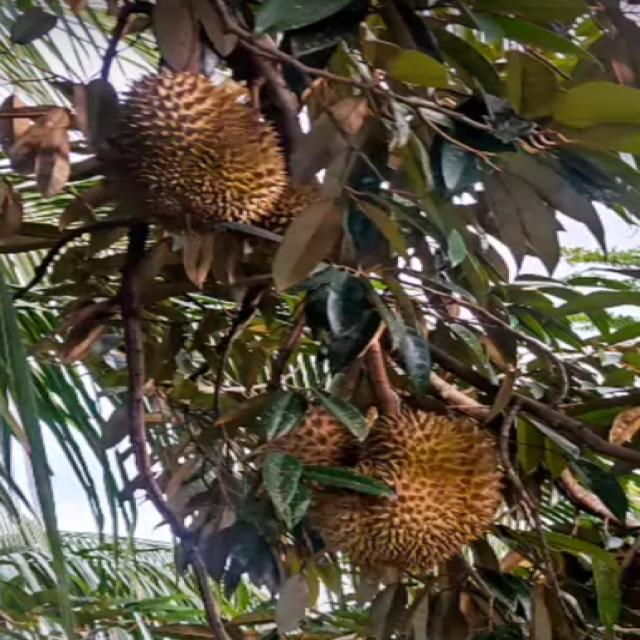mature: (302, 406, 516, 580), (105, 64, 286, 229)
